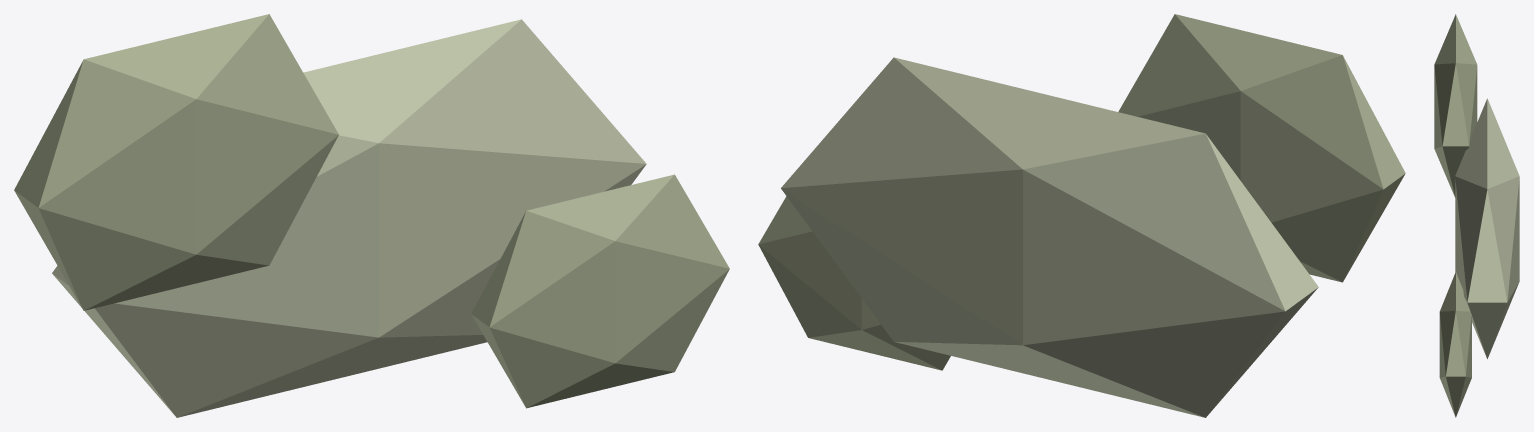
Rendered from lichen.glb.
3 views of the same model, side by side, from view 1: azimuth 30°, elevation 25°; view 2: azimuth 150°, elevation 25°; view 3: azimuth 270°, elevation 25° (orthographic). The views are drawn at different scales.
Visible parts, largest first — view 1: world; view 2: world; view 3: world.
Part boxes in pixels (box(x1,y1,x2,y2)): world: box(14, 14, 729, 417); world: box(758, 14, 1405, 417); world: box(1434, 14, 1519, 417).
Size of the model in its own units: 0.688 by 0.4327 by 0.1351.
